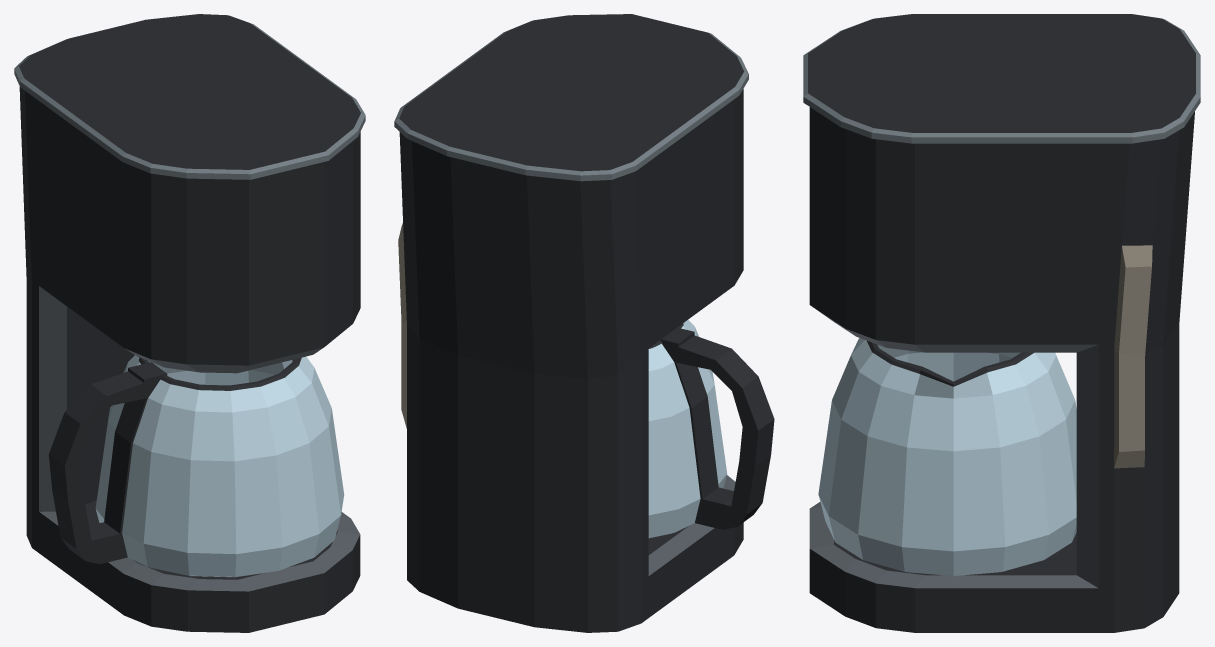
File: coffemaker_02_E.gltf
The picture shows the model from 3 angles, left to right: view 1: azimuth 30°, elevation 25°; view 2: azimuth 150°, elevation 25°; view 3: azimuth 270°, elevation 25°; orthographic projection. The views are drawn at different scales.
Parts seen in each view (by area): view 1: coffemaker_02_E, Kittle_01_E; view 2: coffemaker_02_E, Kittle_01_E; view 3: coffemaker_02_E, Kittle_01_E.
Boxes of the visible parts, x1,y1,x2,y2 form: coffemaker_02_E: [14, 14, 365, 632]; Kittle_01_E: [48, 355, 344, 577]; coffemaker_02_E: [394, 14, 748, 632]; Kittle_01_E: [648, 320, 774, 538]; coffemaker_02_E: [803, 14, 1200, 632]; Kittle_01_E: [818, 338, 1076, 576].
Bounding box in the file's own units: 0.22 × 0.3466 × 0.2492.
1 material, 1 textured.
